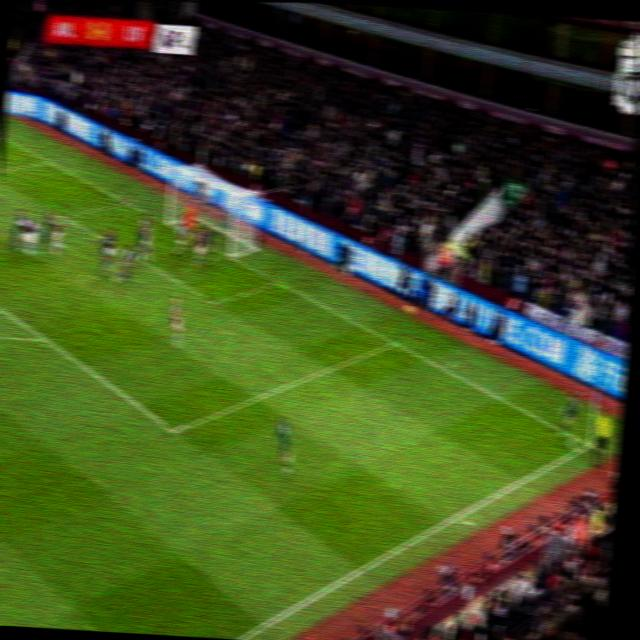bigarea_bottom_inner: (160, 414, 188, 446)
bigarea_bottom_outter: (382, 331, 405, 353)
bigarea_top_outter: (39, 152, 58, 169)
bottom_arc_area_intersection: (33, 326, 56, 349)
smallarea_bottom_inner: (202, 287, 226, 313)
smallarea_bottom_outter: (268, 270, 288, 290)
smallarea_top_inner: (55, 205, 73, 225)
smallarea_top_outter: (578, 433, 598, 453), (116, 192, 135, 212)
